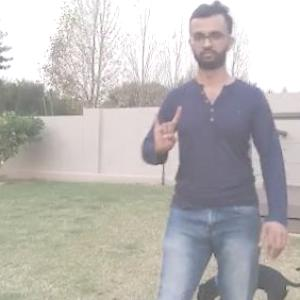takeoff-hand: (143, 97, 186, 158)
